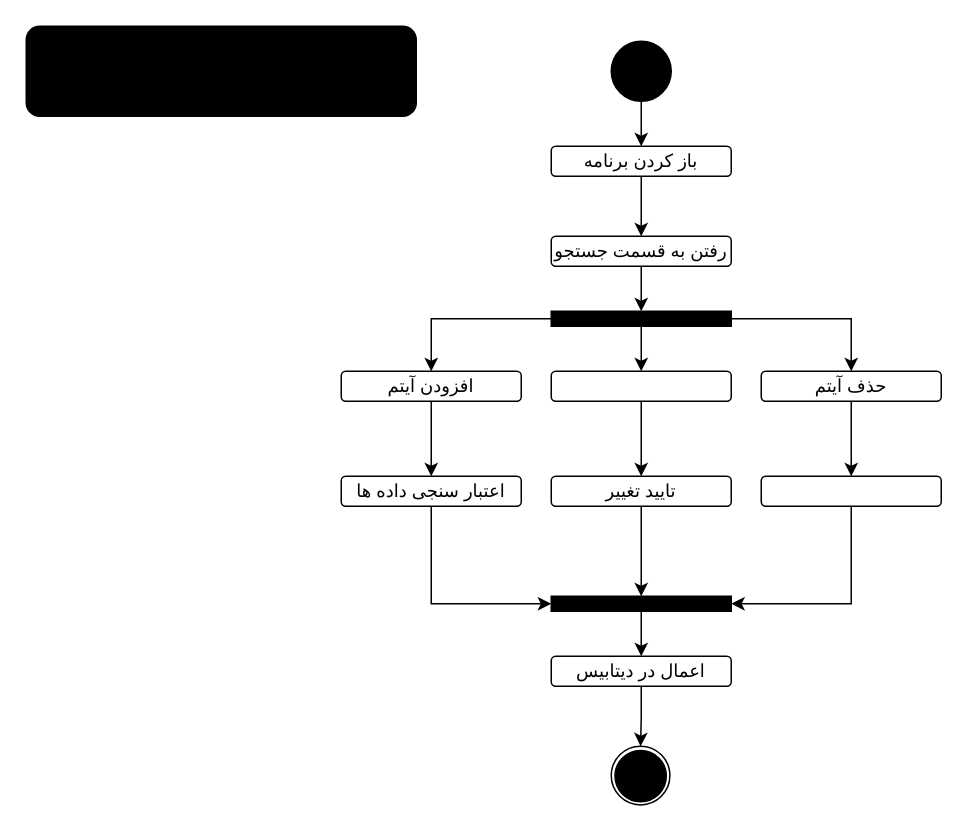
The diagram is 968 pixels wide and 840 high, and some of its shapes have lost their labels. Each missing label, with the centre of its shape:
تایید حذف: the point at 850,490
تغییر آیتم: the point at 640,385
نمودار فعالیت ادمین برای آیتم ها: the point at 220,70
